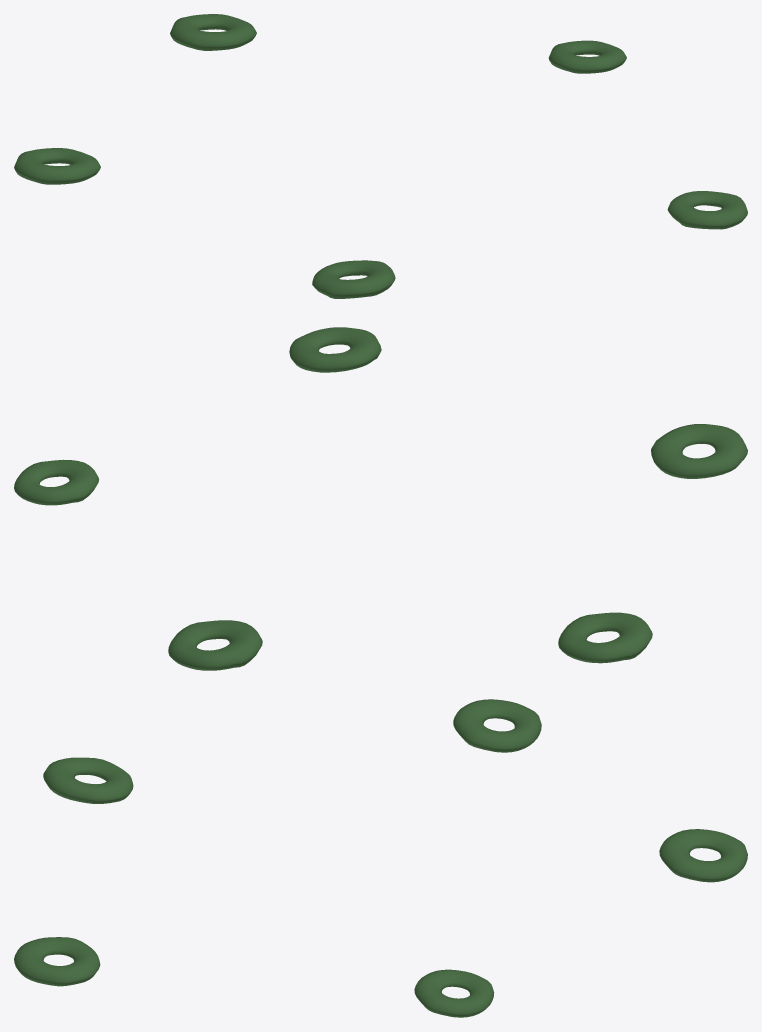
Rendered from olives_v4.fbx.
3 renders of one model, top to bottom at view 1: azimuth 30°, elevation 25°; view 2: azimuth 150°, elevation 25°; view 3: azimuth 270°, elevation 25°, orthographic. The views are drawn at different scales.
Visible parts, largest first — view 1: Torus.006; view 2: Torus.006; view 3: Torus.006.
Boxes of the visible parts, x1,y1,x2,y2 form: Torus.006: [14, 14, 747, 298]; Torus.006: [14, 327, 747, 670]; Torus.006: [14, 699, 747, 1017].
Size of the model in its own units: 101 by 3.77 by 103.
